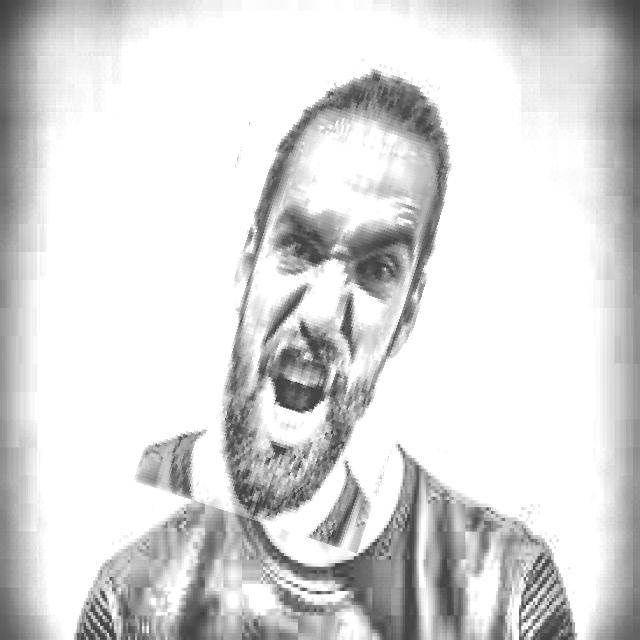angry: (168, 36, 471, 541)
